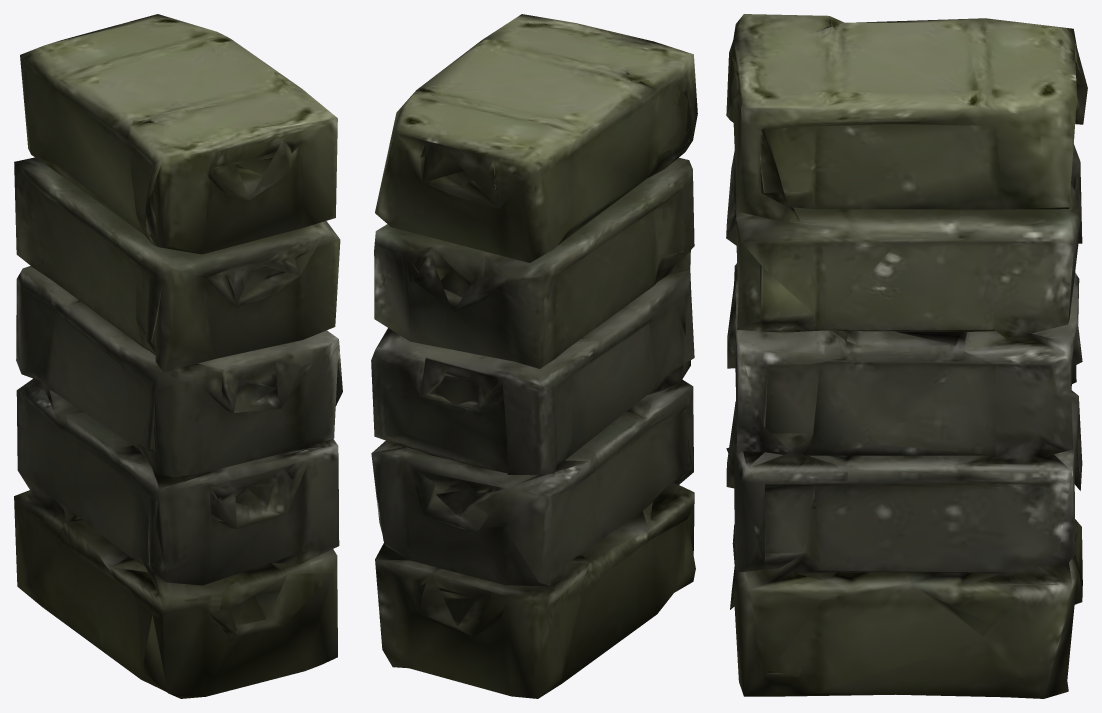
File: e_ammo.glb
3 views of the same model, side by side, from view 1: azimuth 30°, elevation 25°; view 2: azimuth 150°, elevation 25°; view 3: azimuth 270°, elevation 25° (orthographic). The views are drawn at different scales.
Parts seen in each view (by area): view 1: tripo_node_dfdeda30-03fd-45b0-aff6-c910c98fa4ab; view 2: tripo_node_dfdeda30-03fd-45b0-aff6-c910c98fa4ab; view 3: tripo_node_dfdeda30-03fd-45b0-aff6-c910c98fa4ab.
Boxes of the visible parts, box(x1,y1,x2,y2) form: tripo_node_dfdeda30-03fd-45b0-aff6-c910c98fa4ab: box(14, 14, 342, 698); tripo_node_dfdeda30-03fd-45b0-aff6-c910c98fa4ab: box(371, 14, 697, 698); tripo_node_dfdeda30-03fd-45b0-aff6-c910c98fa4ab: box(726, 14, 1087, 698).
Bounding box in the file's own units: 0.3736 × 1 × 0.5393.
1 material, 1 textured.
